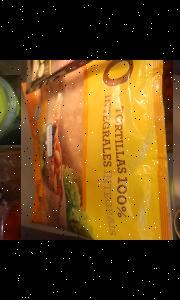Guacamole: (0, 75, 30, 145)
Tortillas de trigo: (20, 60, 172, 240)
